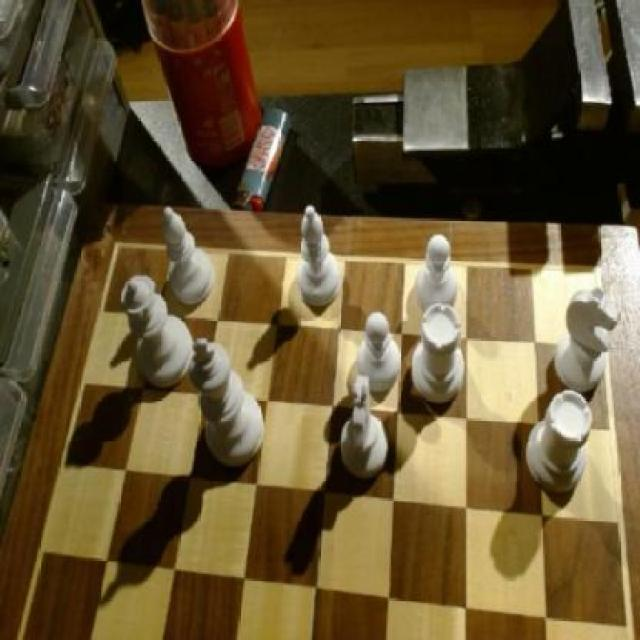black-rook: (162, 203, 222, 307), (294, 201, 346, 314)
white-bishop: (189, 332, 269, 472)
white-king: (557, 292, 625, 404), (343, 374, 392, 483)
white-knight: (411, 228, 462, 324), (360, 312, 402, 396)
white-pawn: (115, 269, 198, 391)
white-queen: (529, 391, 594, 505), (412, 304, 476, 412)
